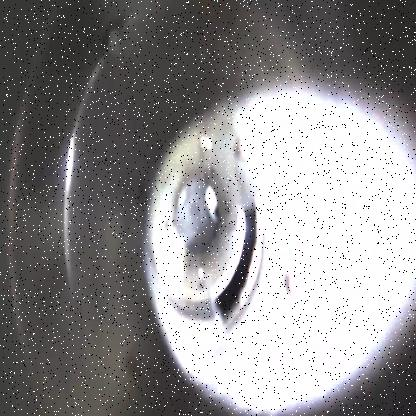Crack2: (214, 202, 264, 326)
